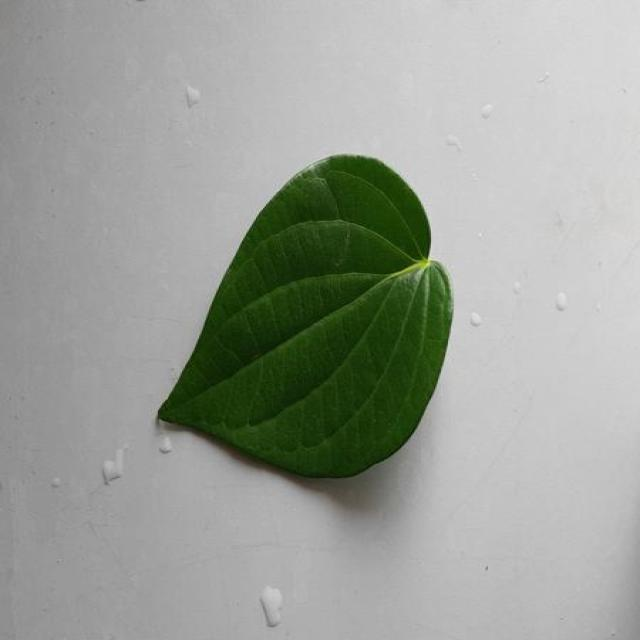betel: (158, 155, 452, 478)
